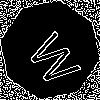W: (25, 25, 90, 90)
